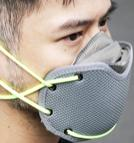with_mask: (2, 1, 134, 143)
